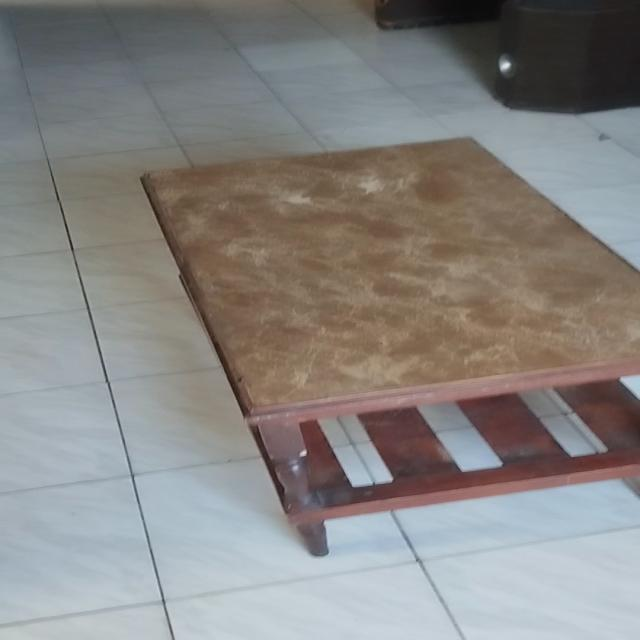table: (136, 129, 640, 564)
